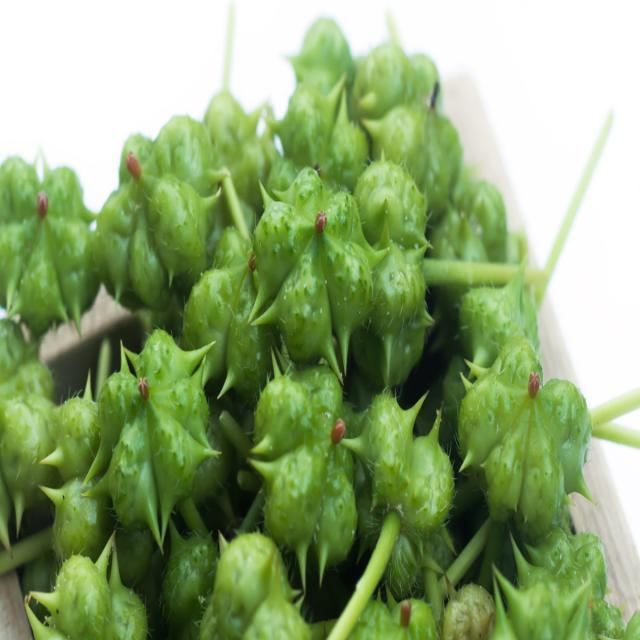Gokharu: (142, 52, 461, 431), (215, 321, 463, 640), (23, 291, 241, 640), (3, 118, 152, 552), (390, 292, 584, 583), (282, 185, 377, 328), (132, 300, 224, 441)
